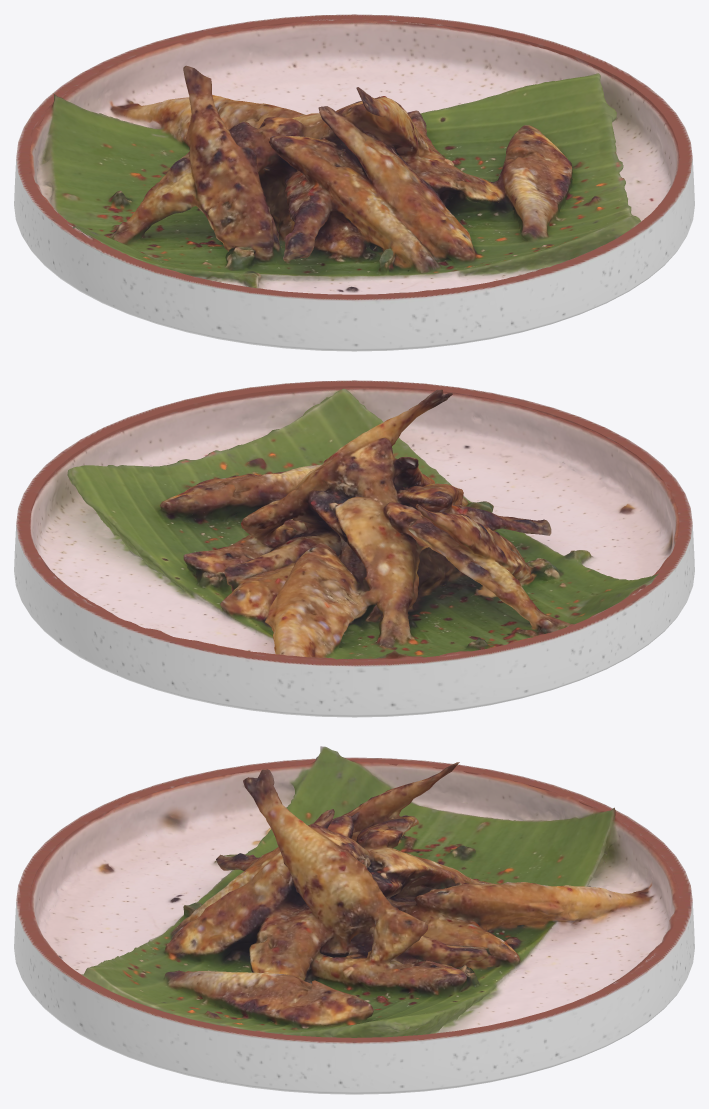
Rendered from Jhuri_Mourola.glb.
3 views of the same model, one above another, from view 1: azimuth 30°, elevation 25°; view 2: azimuth 150°, elevation 25°; view 3: azimuth 270°, elevation 25° (orthographic).
Parts seen in each view (by area): view 1: davd_Model_2:default1, pasted__pCylinder1; view 2: davd_Model_2:default1, pasted__pCylinder1; view 3: davd_Model_2:default1, pasted__pCylinder1.
Boxes of the visible parts, box(x1,y1,x2,y2) form: davd_Model_2:default1: box(28, 19, 679, 294); pasted__pCylinder1: box(14, 14, 694, 351); davd_Model_2:default1: box(29, 388, 679, 661); pasted__pCylinder1: box(14, 380, 694, 717); davd_Model_2:default1: box(29, 746, 682, 1037); pasted__pCylinder1: box(14, 757, 694, 1094).
Size of the model in its own units: 0.1516 by 0.0407 by 0.1516.
2 materials, 2 textured.
